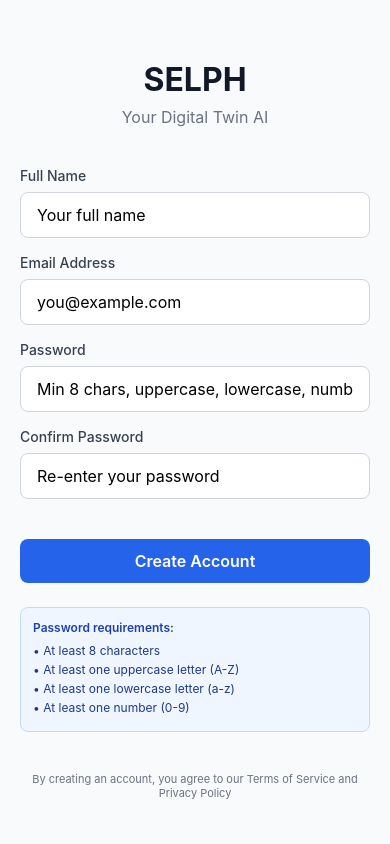
Test case: Auth screens validation (mobile) › shows signup validation errors for weak password and mismatch
The width and height of the screenshot is (390, 844).
Type "Test User" into the field with placeholder "Your full name" at (195, 215), box left=20, top=192, right=370, bottom=238
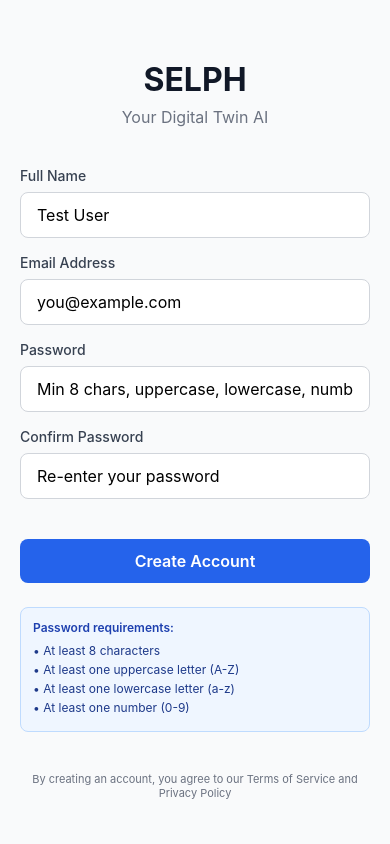
Type "test@example.com" into the field with placeholder "you@example.com" at (195, 302), box left=20, top=279, right=370, bottom=325
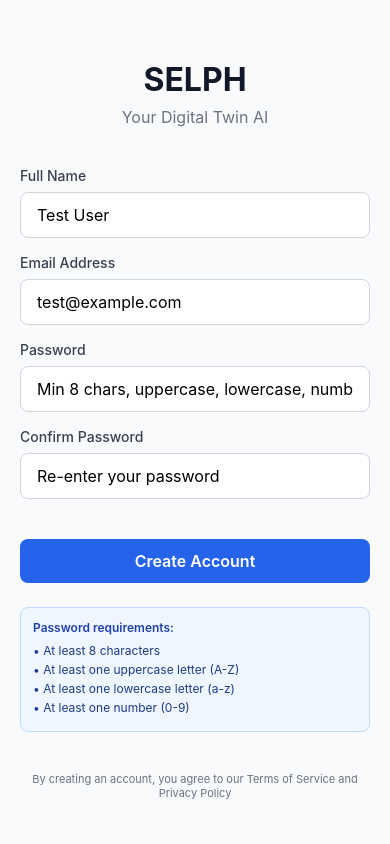
Type "password1" into the password field with placeholder "Min 8 chars, uppercase, lowercase, number" at (195, 389), box left=20, top=366, right=370, bottom=412
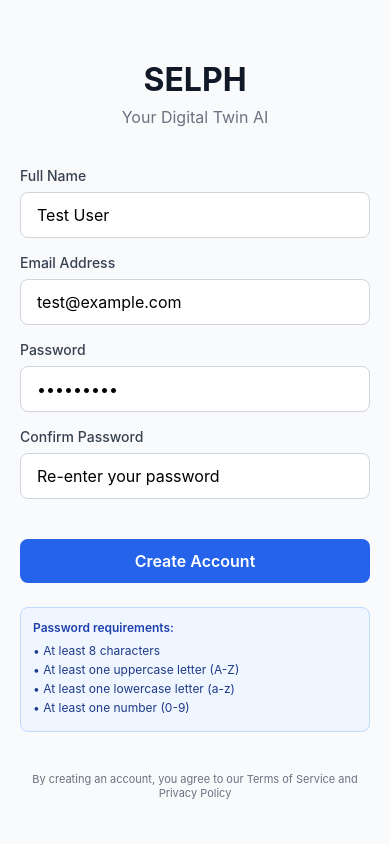
Type "password2" into the password field with placeholder "Re-enter your password" at (195, 476), box left=20, top=453, right=370, bottom=499
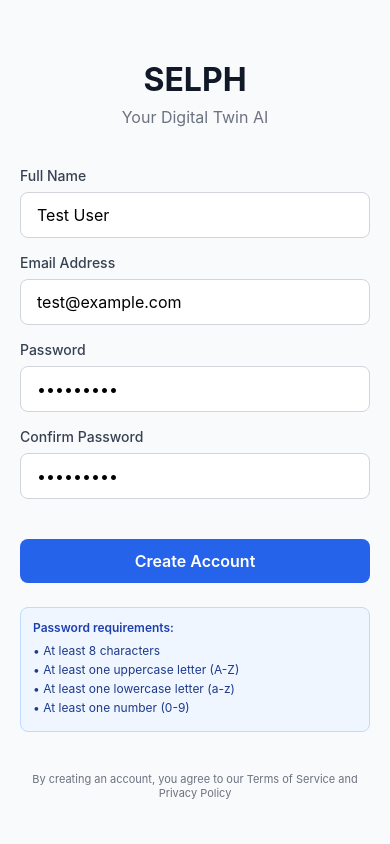
Click the text "Create Account" at (195, 561), box left=135, top=551, right=255, bottom=571
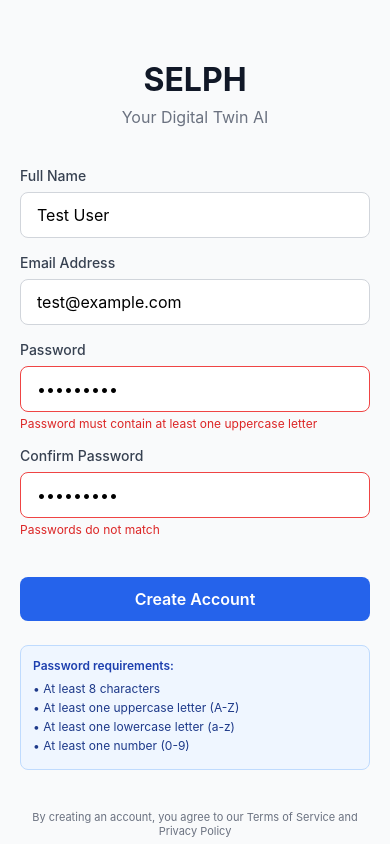
Expected: the text "Password must contain at least one uppercase letter" is shown, left=20, top=416, right=317, bottom=431
Expected: the text "Passwords do not match" is shown, left=20, top=522, right=160, bottom=537
